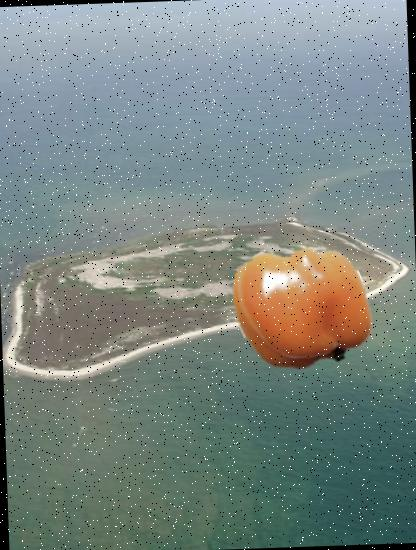Pepper: (234, 237, 372, 375)
